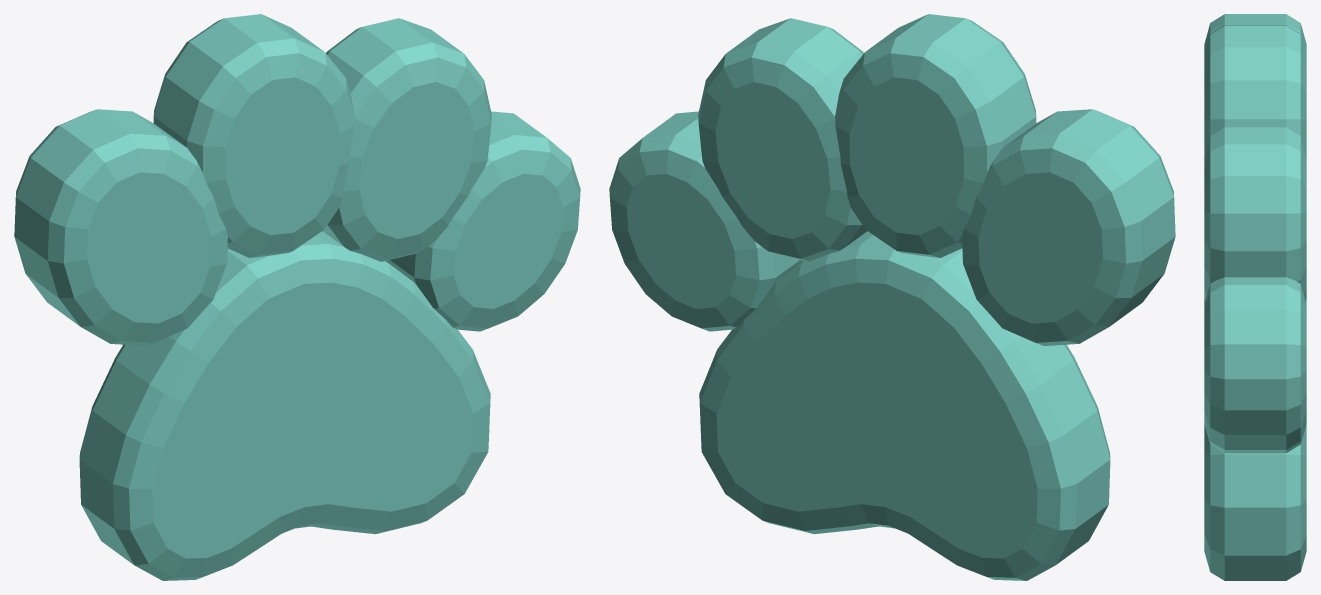
File: fossil.glb
3 renders of one model, left to right at view 1: azimuth 30°, elevation 25°; view 2: azimuth 150°, elevation 25°; view 3: azimuth 270°, elevation 25°, orthographic. The views are drawn at different scales.
Bounding box in the file's own units: 0.1892 × 0.1771 × 0.0342.
